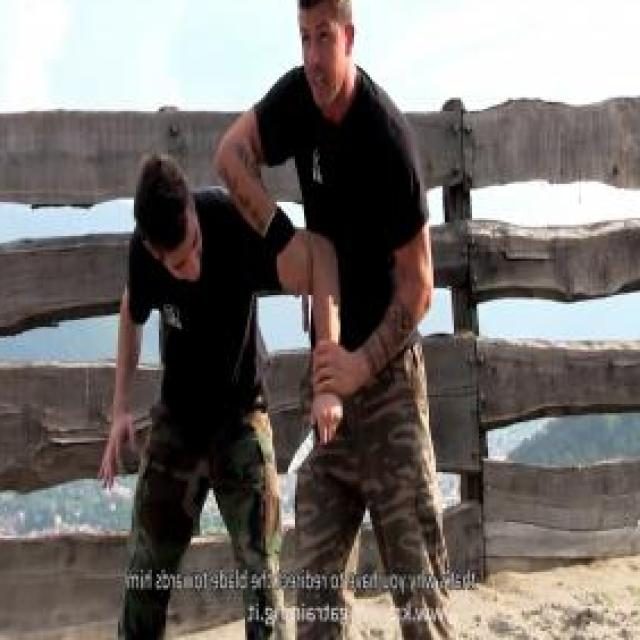knife: (281, 398, 343, 483)
